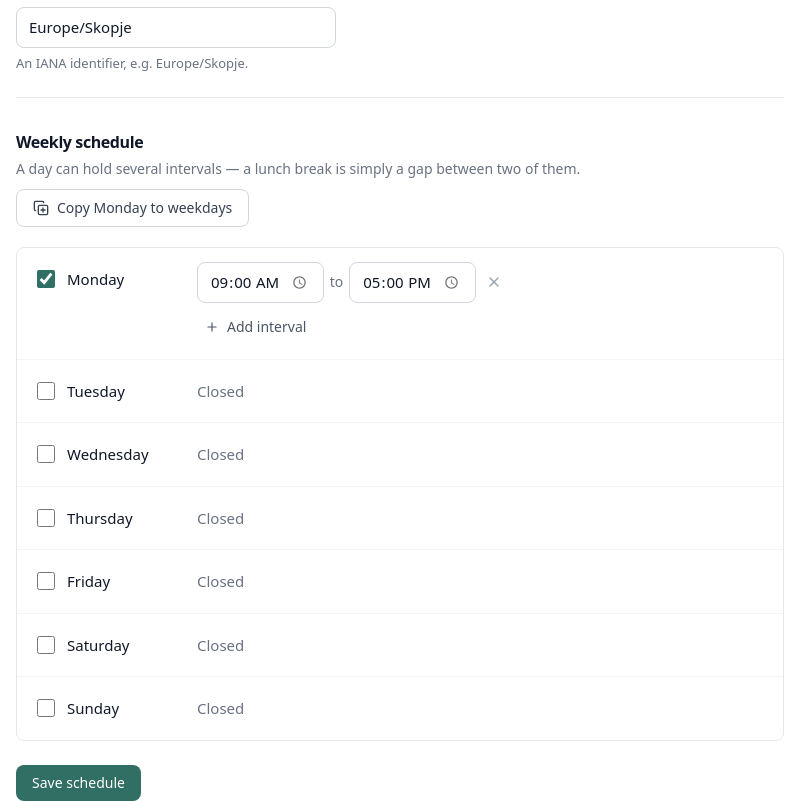
Test: WorkingHoursPage — a successful save › re-seeds the form from what the server actually stored
(page scrolled)
Click the button "Save schedule".
click(78, 783)  # box [16,765,141,800]
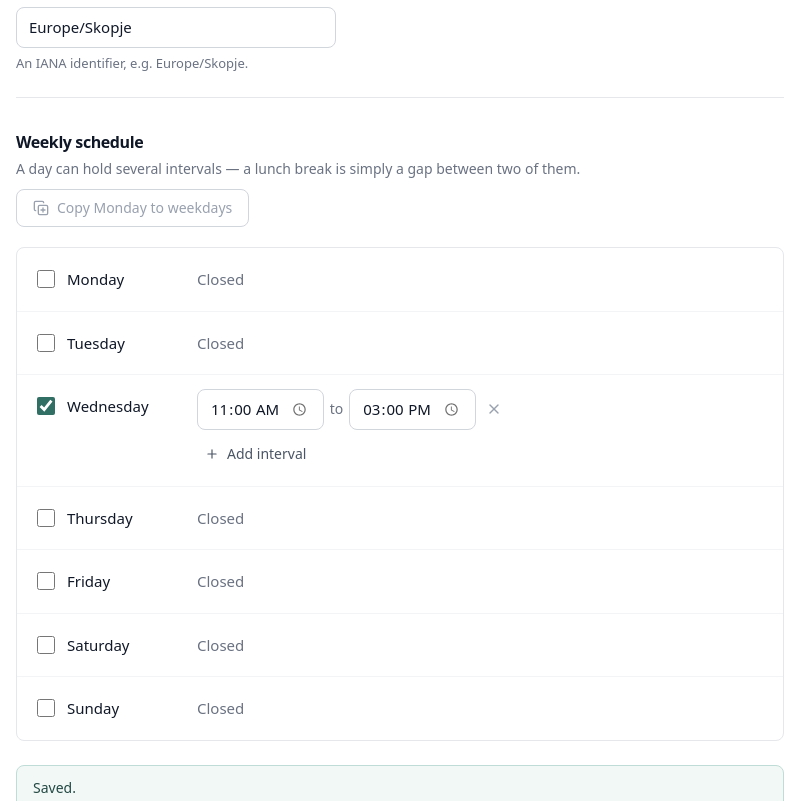
Result: the checkbox labelled "Wednesday" is checked at [37,397,55,415]
Result: the checkbox labelled "Monday" is not checked at [37,270,55,288]
